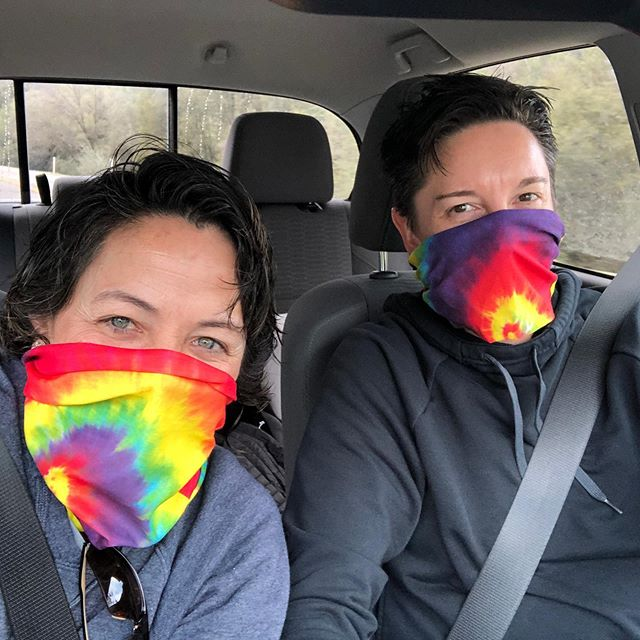homemade: (22, 341, 239, 554), (404, 208, 569, 341)
